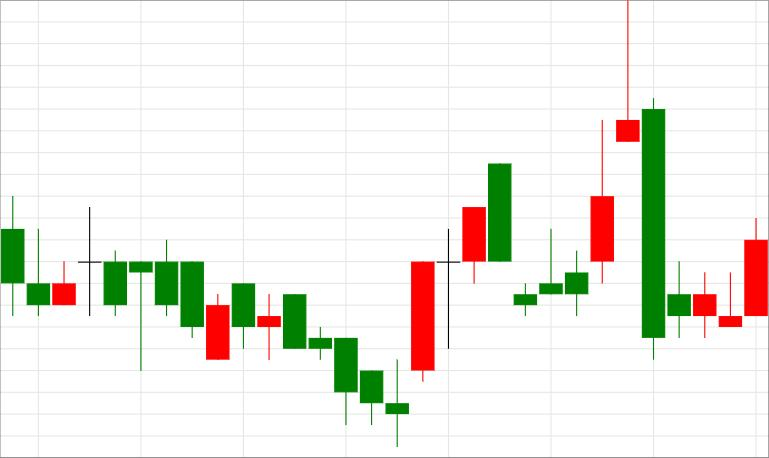morning_star_rise: (232, 261, 435, 446)
shooting_star_fall: (514, 0, 639, 317)
